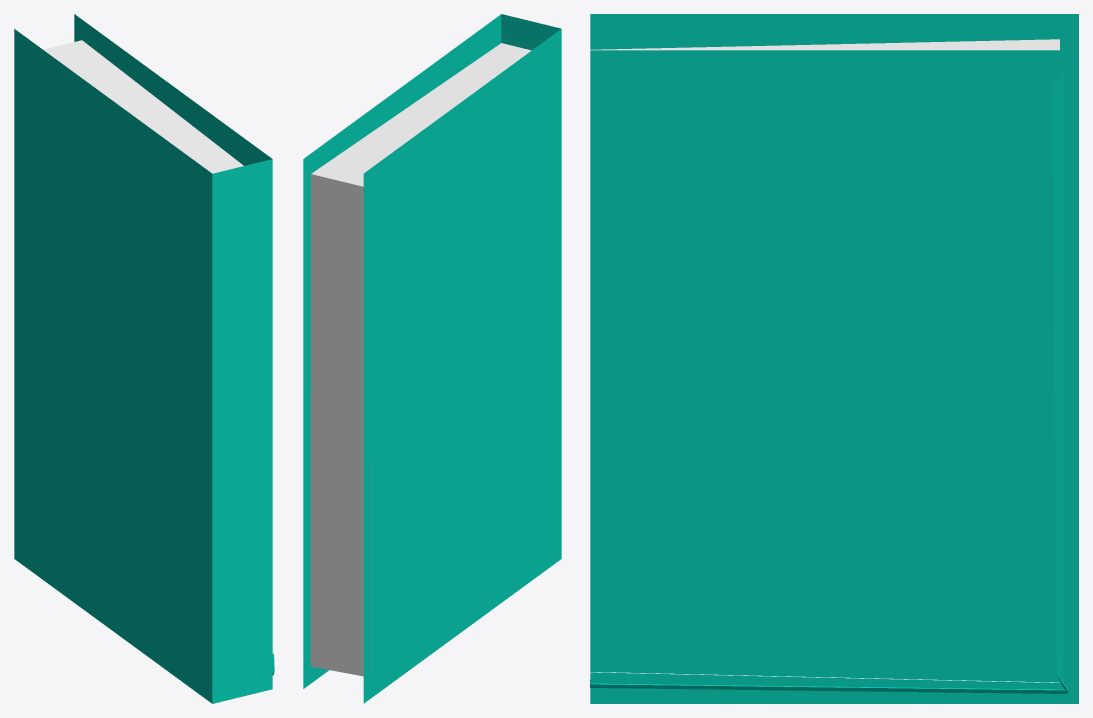
Rendered from low_poly_book.glb.
The picture shows the model from 3 angles, left to right: view 1: azimuth 30°, elevation 25°; view 2: azimuth 150°, elevation 25°; view 3: azimuth 270°, elevation 25°; orthographic projection. The views are drawn at different scales.
Visible parts, largest first — view 1: Book; view 2: Book; view 3: Book.
Boxes of the visible parts, x1,y1,x2,y2 form: Book: (14,14,274,703); Book: (303,14,561,703); Book: (590,14,1078,703).
Bounding box in the file's own units: 0.3625 × 2.95 × 2.
